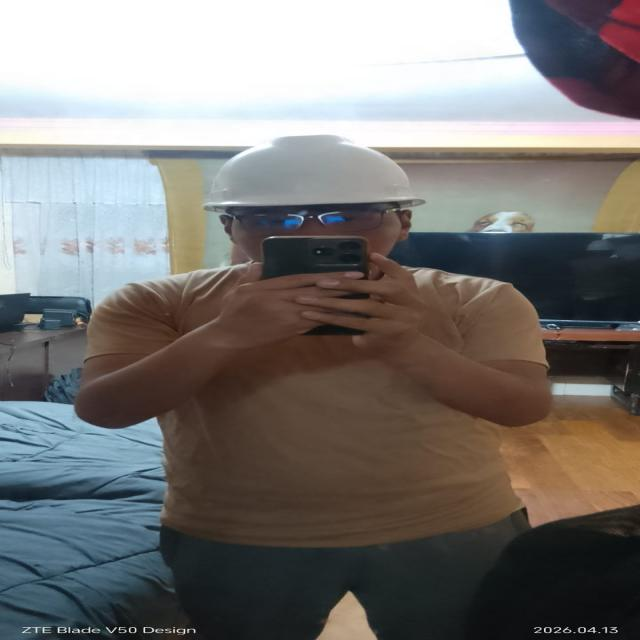casco: (154, 120, 455, 222)
